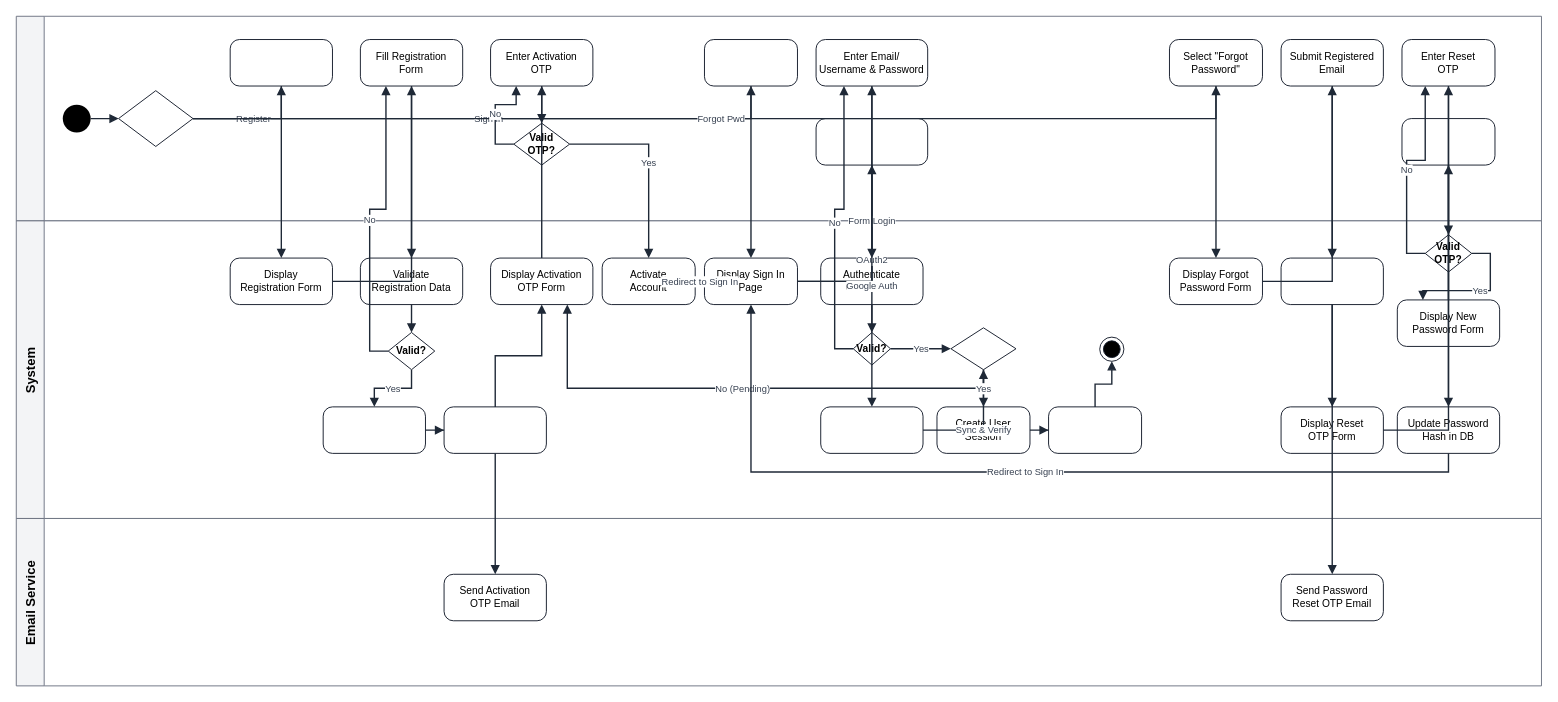
Some shapes in this 1558 by 702 pixel diagram are drawn without their labels. The box of each missing label's shape, as (x1, y1, x2, y2) in pixels:
Account Active?: (950, 327, 1016, 370)
Choose "Continue with Google": (815, 118, 928, 165)
Create Pending Account: (322, 406, 425, 453)
Customer: (15, 15, 1541, 221)
Generate Activation OTP: (443, 406, 546, 453)
Open Sign In Page: (704, 39, 797, 86)
Process OAuth2 Callback & Sync User: (820, 406, 923, 453)
Redirect to Dashboard / Home: (1048, 406, 1142, 453)
Select "Create New Account": (229, 39, 332, 86)
Select Action: (118, 90, 193, 146)
Set New Password: (1401, 118, 1495, 165)
Validate Email & Generate OTP: (1280, 257, 1383, 305)
